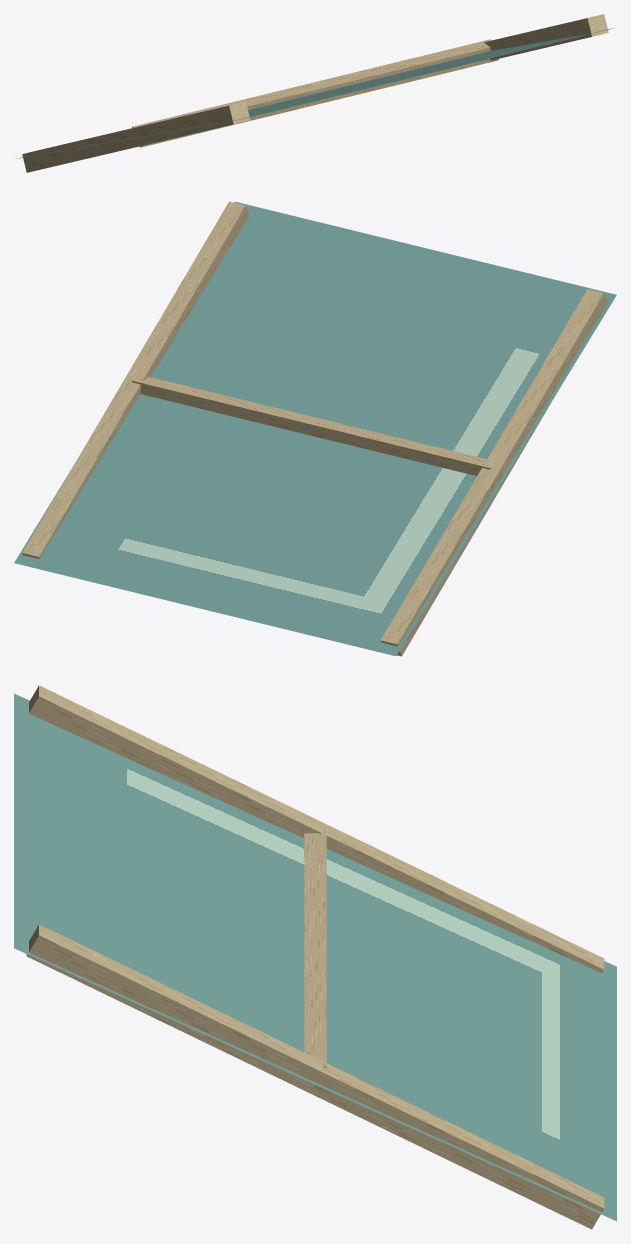
File: atrium_slope_panel.gltf
The picture shows the model from 3 angles, top to bottom: view 1: azimuth 30°, elevation 25°; view 2: azimuth 150°, elevation 25°; view 3: azimuth 270°, elevation 25°; orthographic projection. The views are drawn at different scales.
Parts seen in each view (by area): view 1: sloping_frame (×2), crossbar, glass; view 2: glass, sloping_frame (×2), crossbar; view 3: glass, sloping_frame (×2), crossbar.
Boxes of the visible parts, left/top/right/bottom form: sloping_frame (×2): left=22, top=14, right=608, bottom=172; crossbar: left=132, top=39, right=498, bottom=147; glass: left=16, top=28, right=614, bottom=158; glass: left=14, top=201, right=616, bottom=656; sloping_frame (×2): left=22, top=201, right=607, bottom=656; crossbar: left=132, top=377, right=491, bottom=475; glass: left=14, top=693, right=616, bottom=1221; sloping_frame (×2): left=26, top=685, right=604, bottom=1229; crossbar: left=304, top=827, right=326, bottom=1068.
Size of the model in its own units: 2 by 1.08 by 2.
2 materials, 2 textured.
